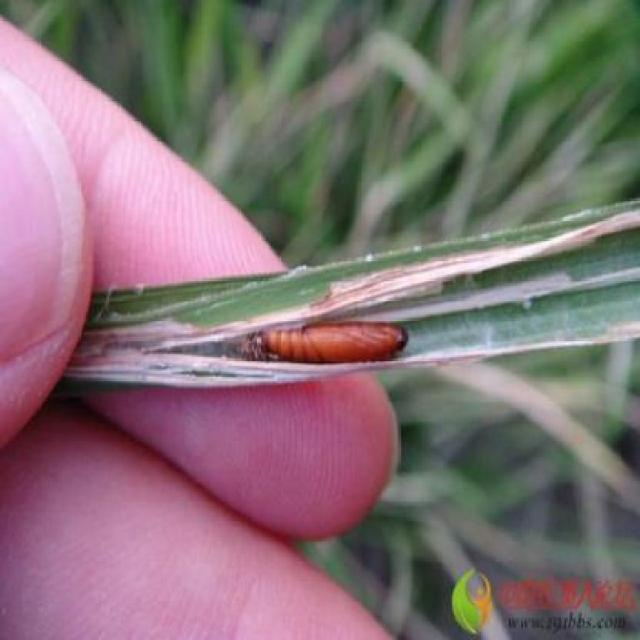leaf-folder: (242, 299, 441, 386)
